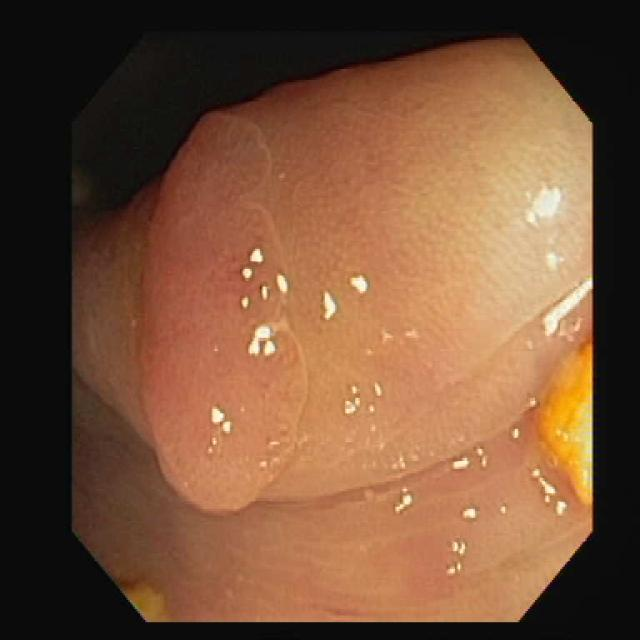tumor: (142, 127, 308, 509)
